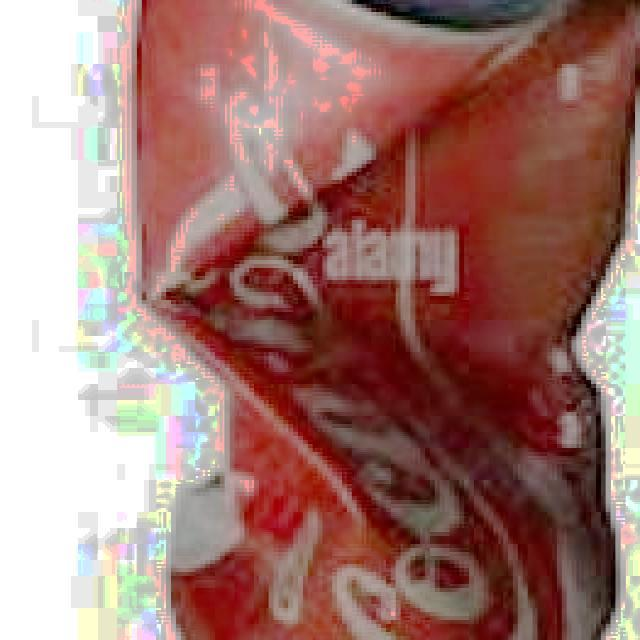Lata: (139, 0, 640, 639)
